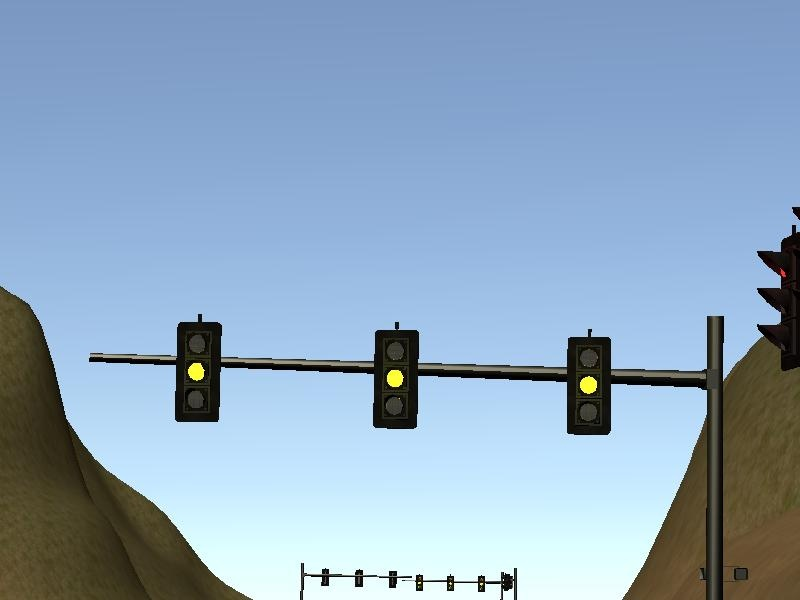YELLOW: (564, 330, 614, 437), (369, 326, 419, 433), (174, 317, 224, 424)
